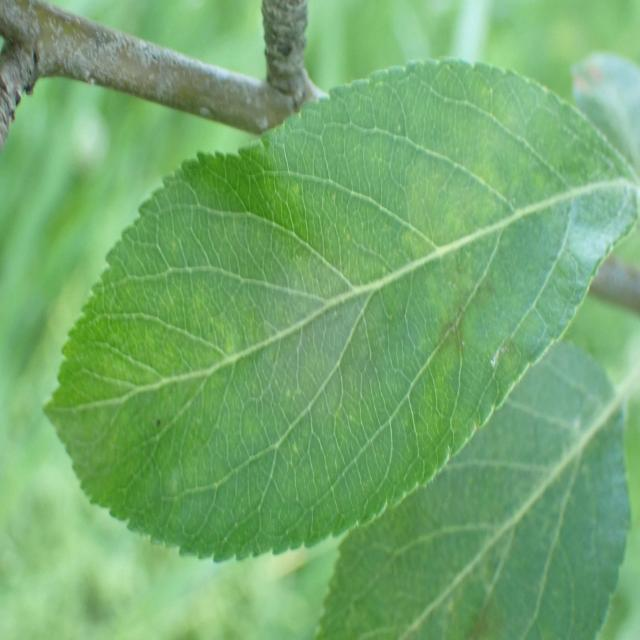scab: (119, 162, 554, 524)
